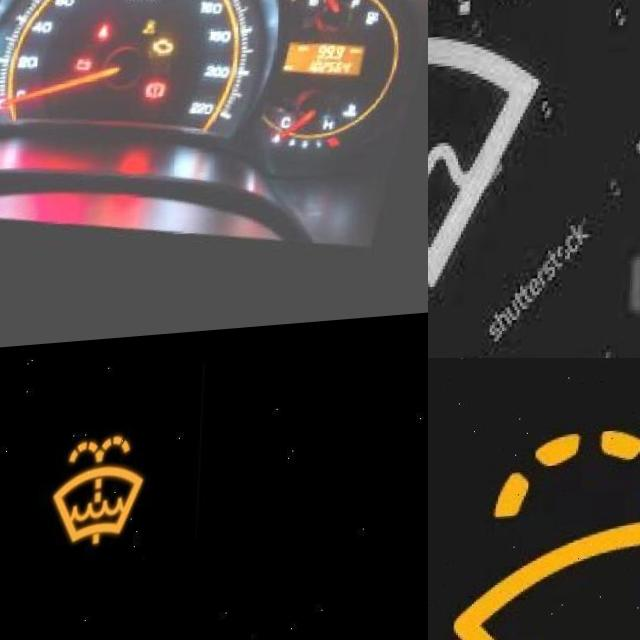High Engine Coolant Temperature: (347, 113, 370, 132)
Seat Belt: (102, 29, 116, 45)
Washer Fluid: (446, 412, 640, 640), (428, 0, 543, 304), (52, 439, 148, 555)
